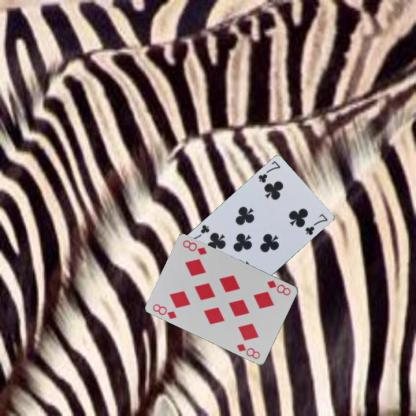7c: (256, 158, 282, 184)
8d: (265, 277, 292, 297), (150, 301, 178, 320)
